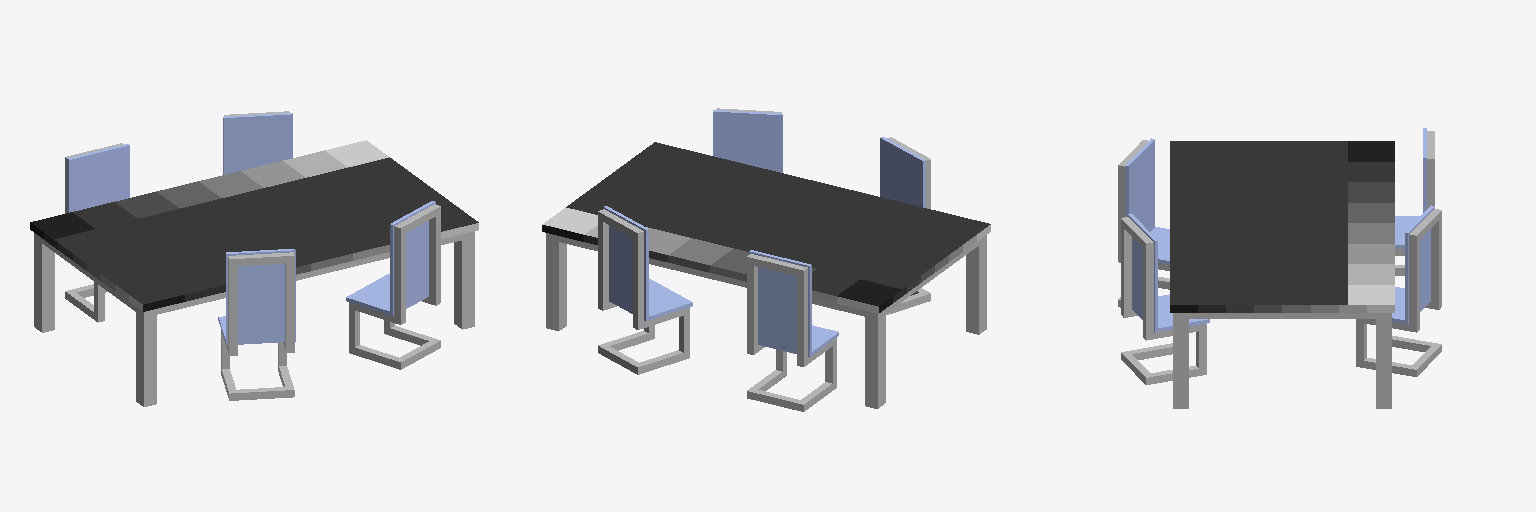
The picture shows the model from 3 angles: view 1: azimuth 30°, elevation 25°; view 2: azimuth 150°, elevation 25°; view 3: azimuth 270°, elevation 25°; orthographic projection.
Visible parts, largest first — view 1: cube.053, cube.093, cube.105, cube.069, cube.081, cube.058, cube.055, cube.054, cube.057, cube.076, cube.075, cube.082 (+5 smaller); view 2: cube.053, cube.081, cube.069, cube.093, cube.105, cube.057, cube.054, cube.056, cube.058, cube.063, cube.099, cube.106 (+3 smaller); view 3: cube.053, cube.093, cube.055, cube.056, cube.081, cube.105, cube.054, cube.075, cube.100, cube.099, cube.076, cube.082.
Boxes of the visible parts, x1=… form: cube.053: x1=30, y1=140, x2=478, y2=311; cube.093: x1=226, y1=249, x2=295, y2=344; cube.105: x1=223, y1=113, x2=292, y2=174; cube.069: x1=67, y1=144, x2=129, y2=212; cube.081: x1=390, y1=201, x2=435, y2=315; cube.058: x1=136, y1=313, x2=156, y2=406; cube.055: x1=454, y1=237, x2=474, y2=329; cube.054: x1=34, y1=231, x2=474, y2=317; cube.057: x1=34, y1=238, x2=54, y2=332; cube.076: x1=394, y1=223, x2=405, y2=317; cube.075: x1=429, y1=204, x2=440, y2=297; cube.082: x1=346, y1=274, x2=389, y2=314; cube.053: x1=542, y1=142, x2=990, y2=313; cube.081: x1=713, y1=110, x2=782, y2=172; cube.069: x1=749, y1=250, x2=811, y2=356; cube.093: x1=880, y1=137, x2=925, y2=207; cube.105: x1=603, y1=206, x2=648, y2=320; cube.057: x1=865, y1=314, x2=885, y2=408; cube.054: x1=546, y1=233, x2=986, y2=319; cube.056: x1=546, y1=239, x2=566, y2=330; cube.058: x1=966, y1=240, x2=986, y2=334; cube.063: x1=797, y1=266, x2=807, y2=359; cube.099: x1=633, y1=229, x2=643, y2=322; cube.106: x1=649, y1=279, x2=692, y2=319; cube.053: x1=1170, y1=141, x2=1394, y2=312; cube.093: x1=1125, y1=138, x2=1154, y2=231; cube.055: x1=1173, y1=319, x2=1188, y2=408; cube.056: x1=1376, y1=319, x2=1391, y2=408; cube.081: x1=1128, y1=213, x2=1157, y2=332; cube.105: x1=1405, y1=205, x2=1434, y2=324; cube.054: x1=1173, y1=313, x2=1391, y2=318; cube.075: x1=1143, y1=239, x2=1153, y2=332; cube.100: x1=1409, y1=231, x2=1419, y2=324; cube.099: x1=1431, y1=209, x2=1441, y2=302; cube.076: x1=1121, y1=217, x2=1131, y2=310; cube.082: x1=1158, y1=294, x2=1209, y2=331.
Bounding box in the file's own units: 2.39 × 0.9752 × 1.99.
Materials: 3 (2 with a texture image).